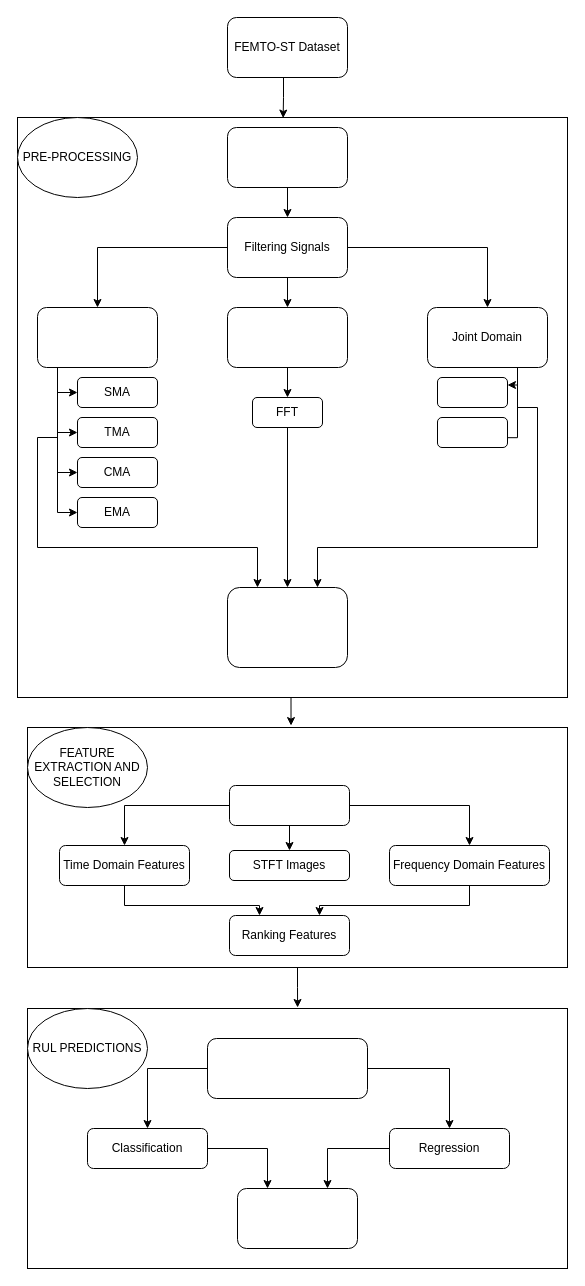
Image size: 585x1286. Some labels were removed from this diagram. The shapes that lost their labels are listed below. From the top down, each one's box as (x1, y1, x2, y2) in pixels, then its label:
(226, 126, 348, 188): Downsampling Signals
(36, 306, 158, 368): Time Domain
(226, 306, 348, 368): Frequency Domain
(436, 376, 508, 408): DWT
(436, 416, 508, 448): VMD
(226, 586, 348, 668): Ranking Filtering Methods with SNR, PSNR, PCorr and MSE
(228, 784, 350, 826): Feature Extraction
(206, 1038, 368, 1098): Creating Machine/ Deep Learning Models with appropriate Features
(236, 1188, 358, 1248): Calculating Error and RUL scores
